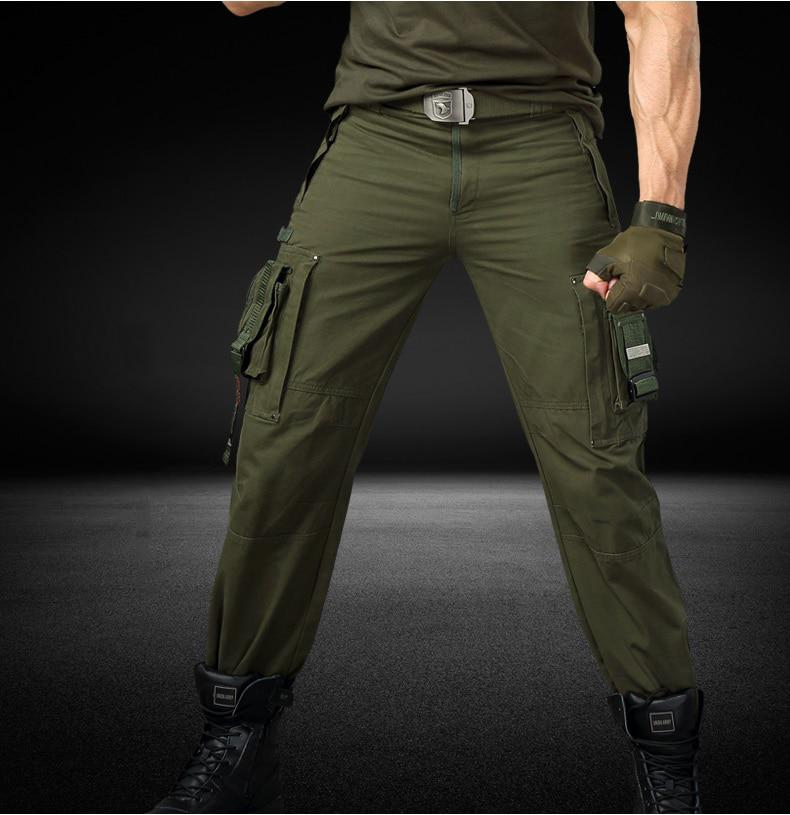pants: (178, 103, 699, 725)
